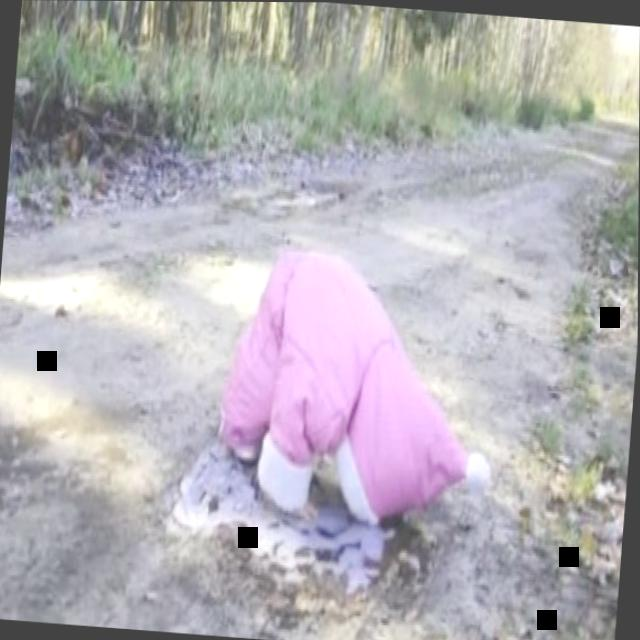Fall-Detected: (189, 224, 498, 533)
